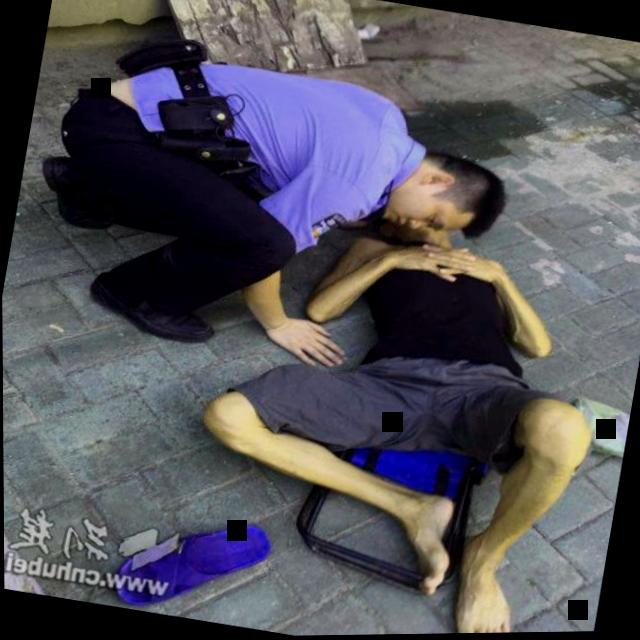Fall-Detected: (166, 149, 640, 638)
